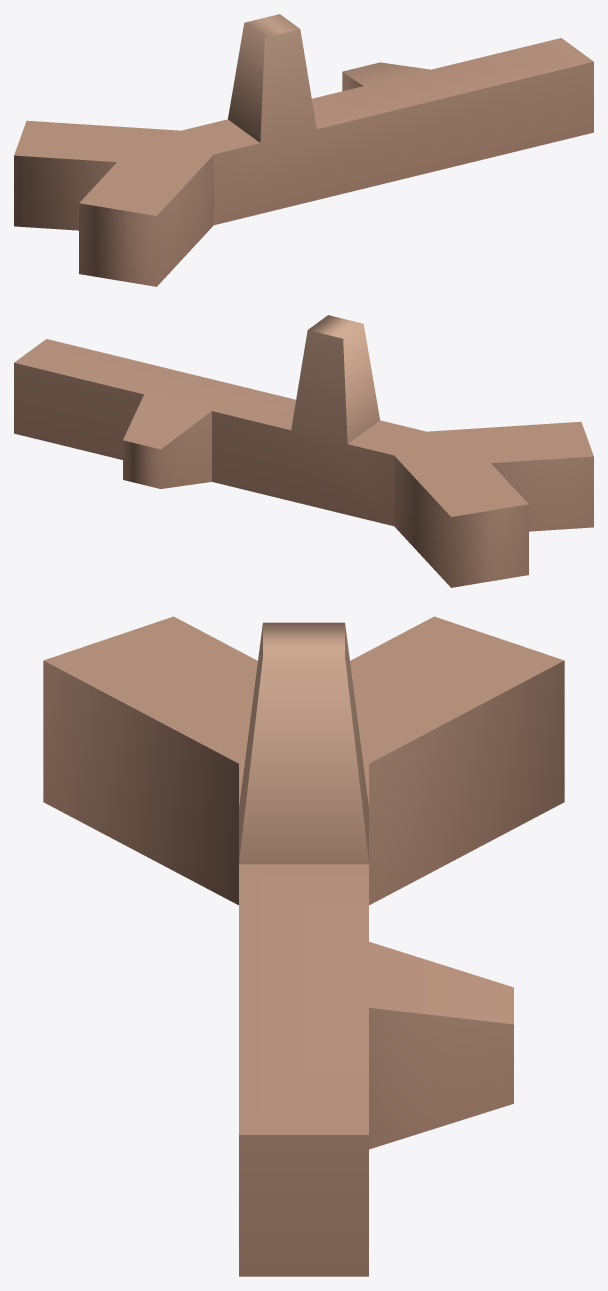
File: resource-wood.glb
3 renders of one model, top to bottom at view 1: azimuth 30°, elevation 25°; view 2: azimuth 150°, elevation 25°; view 3: azimuth 270°, elevation 25°, orthographic. The views are drawn at different scales.
Visible parts, largest first — view 1: resource-wood; view 2: resource-wood; view 3: resource-wood.
Boxes of the visible parts, x1,y1,x2,y2 form: resource-wood: [14, 14, 593, 286]; resource-wood: [14, 315, 593, 587]; resource-wood: [43, 616, 564, 1276].
Size of the model in its own units: 0.205 by 0.0624 by 0.0871.
